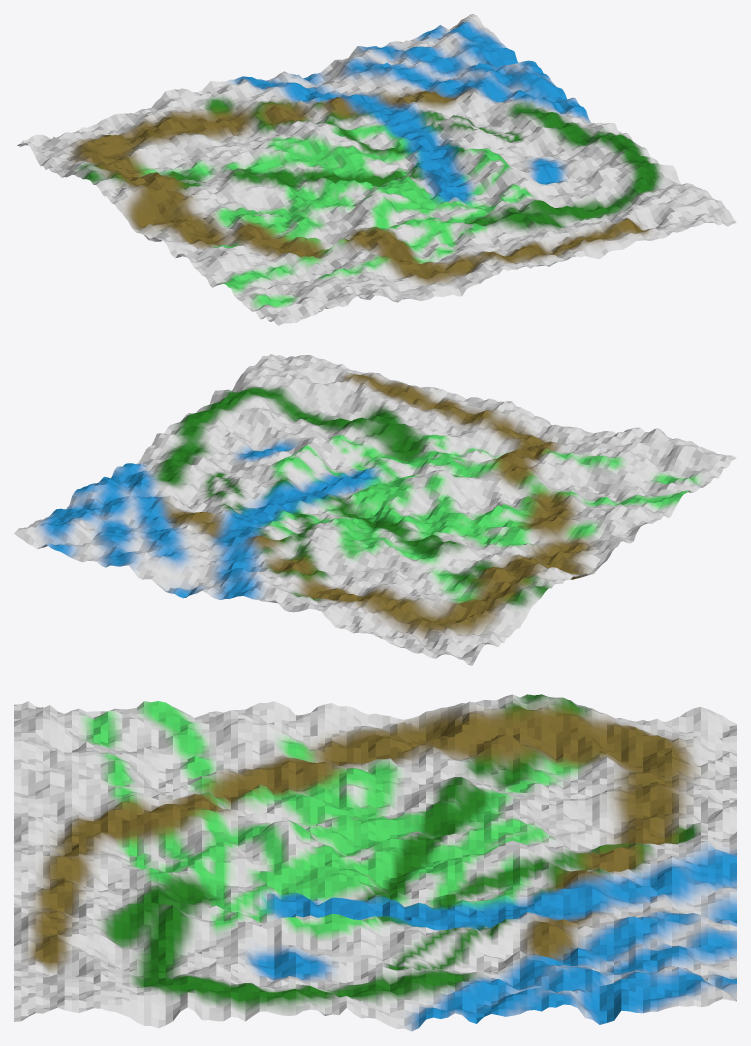
File: Terrain.fbx
The picture shows the model from 3 angles, top to bottom: view 1: azimuth 30°, elevation 25°; view 2: azimuth 150°, elevation 25°; view 3: azimuth 270°, elevation 25°; orthographic projection. The views are drawn at different scales.
Parts seen in each view (by area): view 1: Grid; view 2: Grid; view 3: Grid.
Boxes of the visible parts, x1,y1,x2,y2 form: Grid: [17, 14, 736, 325]; Grid: [14, 354, 736, 665]; Grid: [14, 694, 736, 1031].
Bounding box in the file's own units: 20000 × 1358 × 20000.
